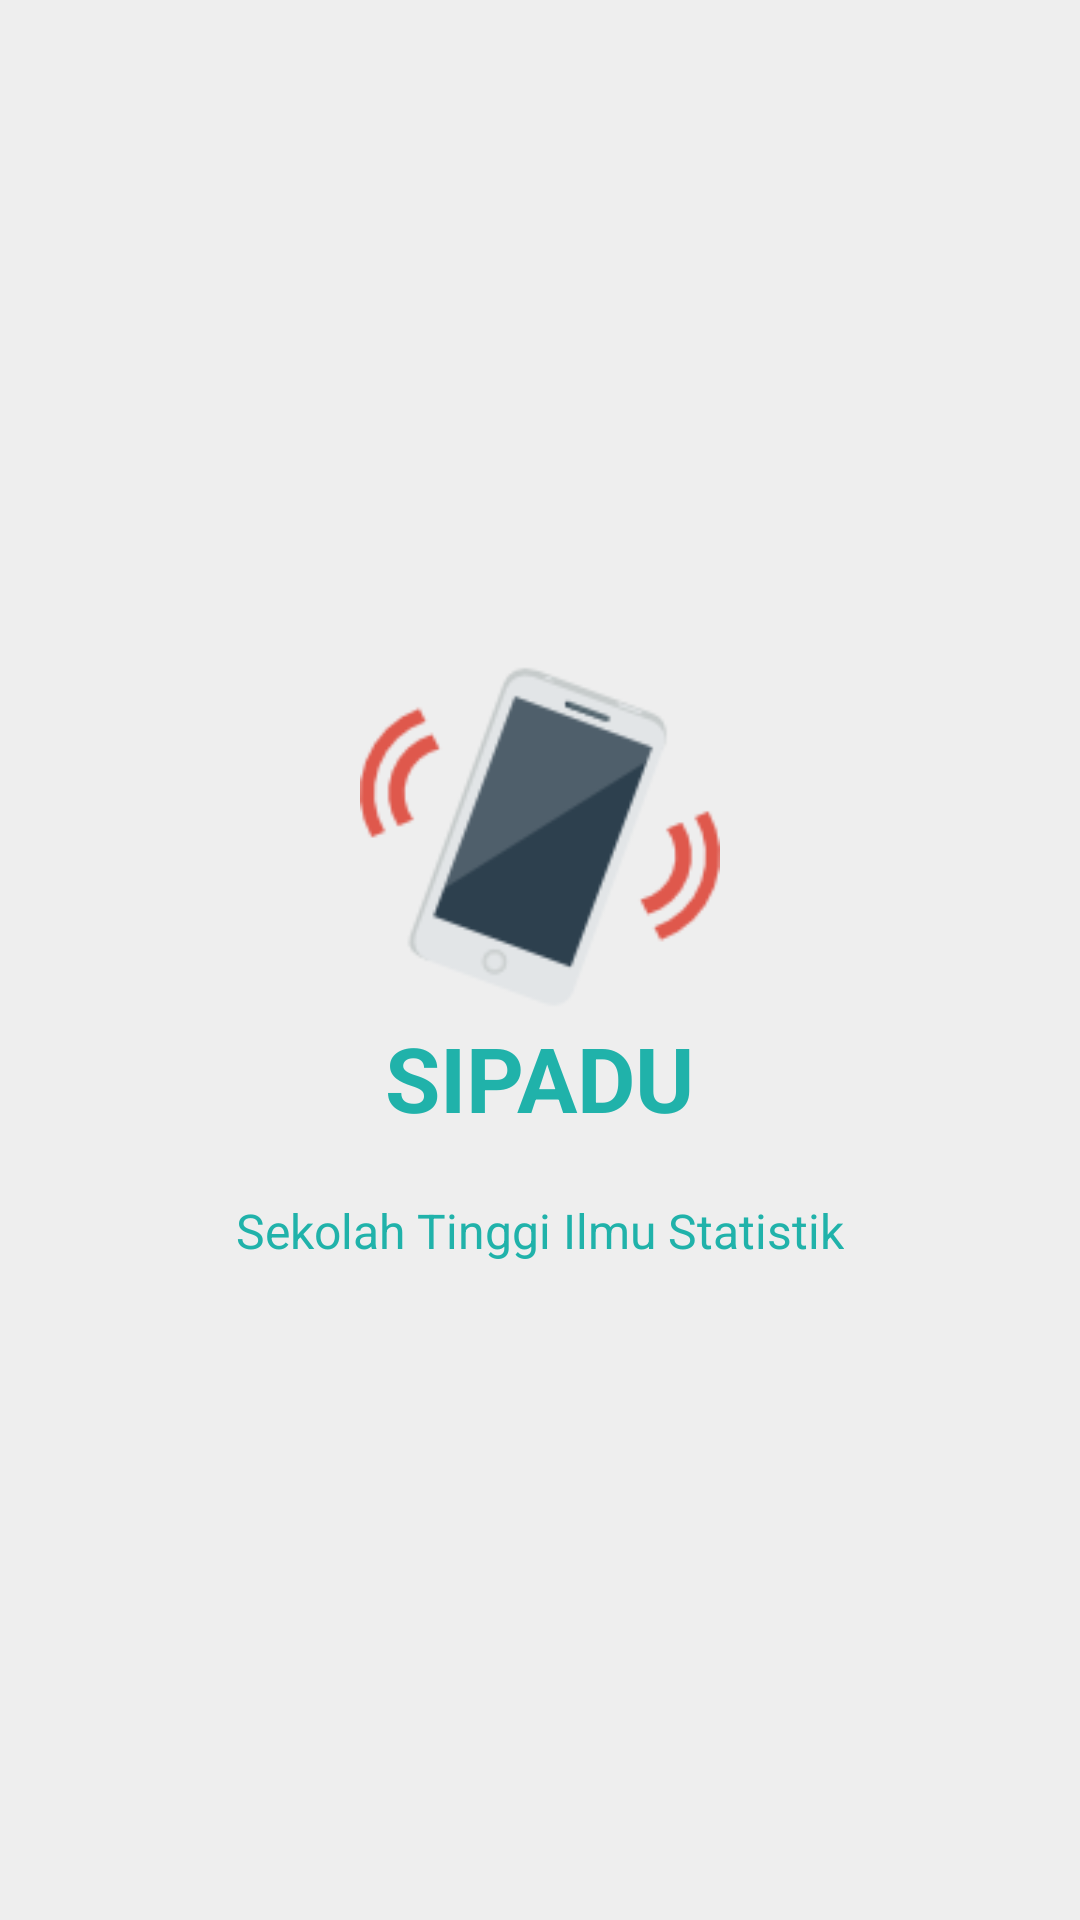

Icon click points for this 1080x1920 phone screenshot, format (x,y):
smartphone: (540,821)
